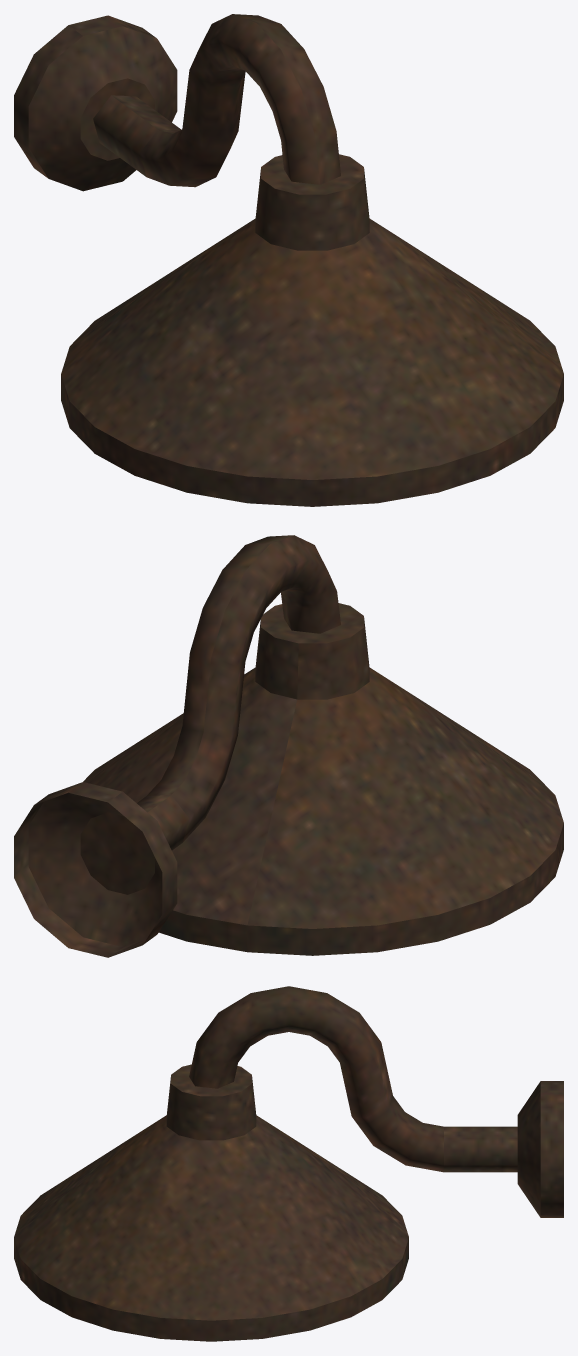
File: lamp_mx_3_off.obj
3 renders of one model, top to bottom at view 1: azimuth 30°, elevation 25°; view 2: azimuth 150°, elevation 25°; view 3: azimuth 270°, elevation 25°, orthographic. The views are drawn at different scales.
Visible parts, largest first — view 1: lamp_mx_3_off; view 2: lamp_mx_3_off; view 3: lamp_mx_3_off.
Part boxes in pixels (box(x1,y1,x2,y2)): lamp_mx_3_off: box(14, 14, 563, 506); lamp_mx_3_off: box(14, 535, 563, 957); lamp_mx_3_off: box(14, 986, 563, 1341).
Size of the model in its own units: 0.51 by 0.418 by 0.71.
